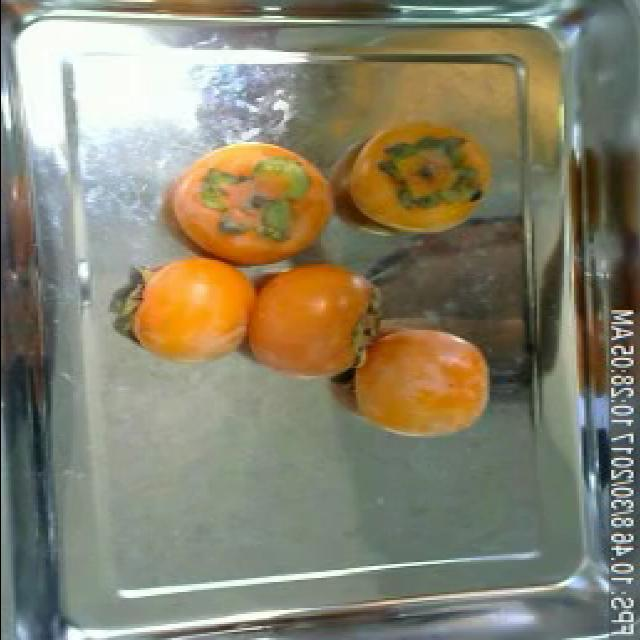Fruit: (345, 194, 546, 348), (213, 258, 390, 394), (110, 244, 266, 378), (340, 320, 501, 448), (360, 128, 506, 212)
